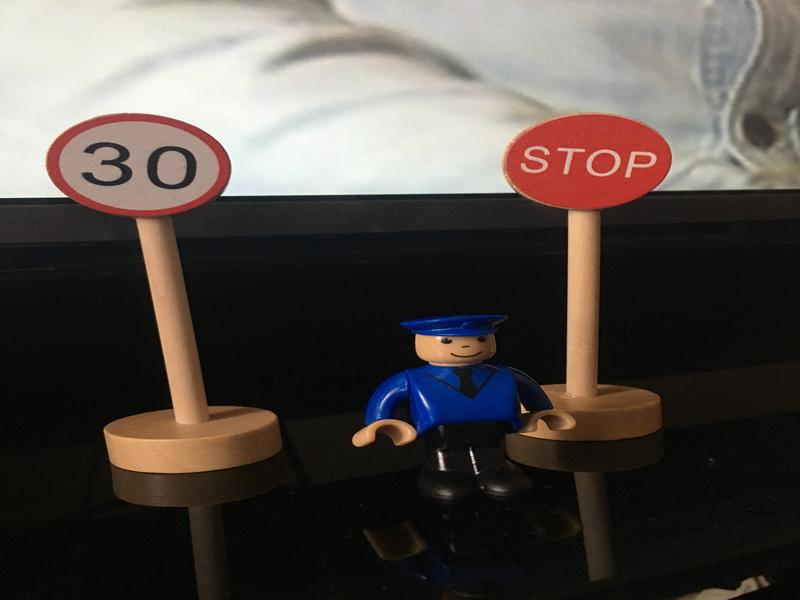Traffic_Sign_30: (46, 113, 232, 215)
Traffic_Sign_Stop: (504, 114, 672, 209)
person: (351, 312, 580, 506)
